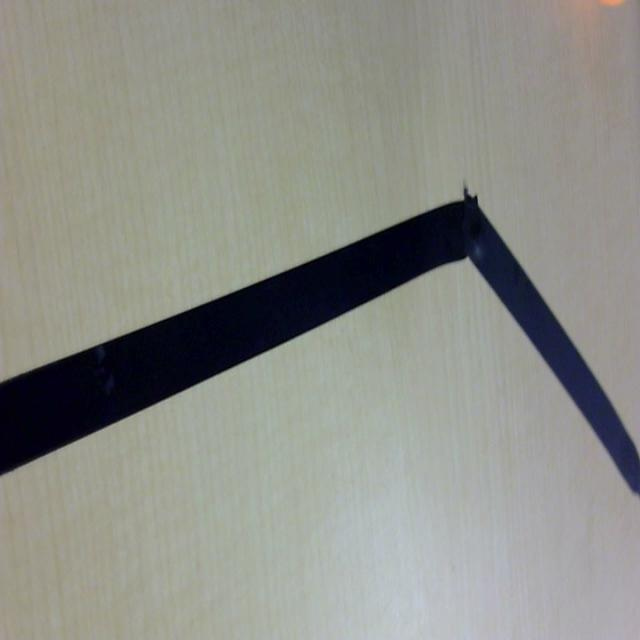tape: (0, 176, 640, 568)
